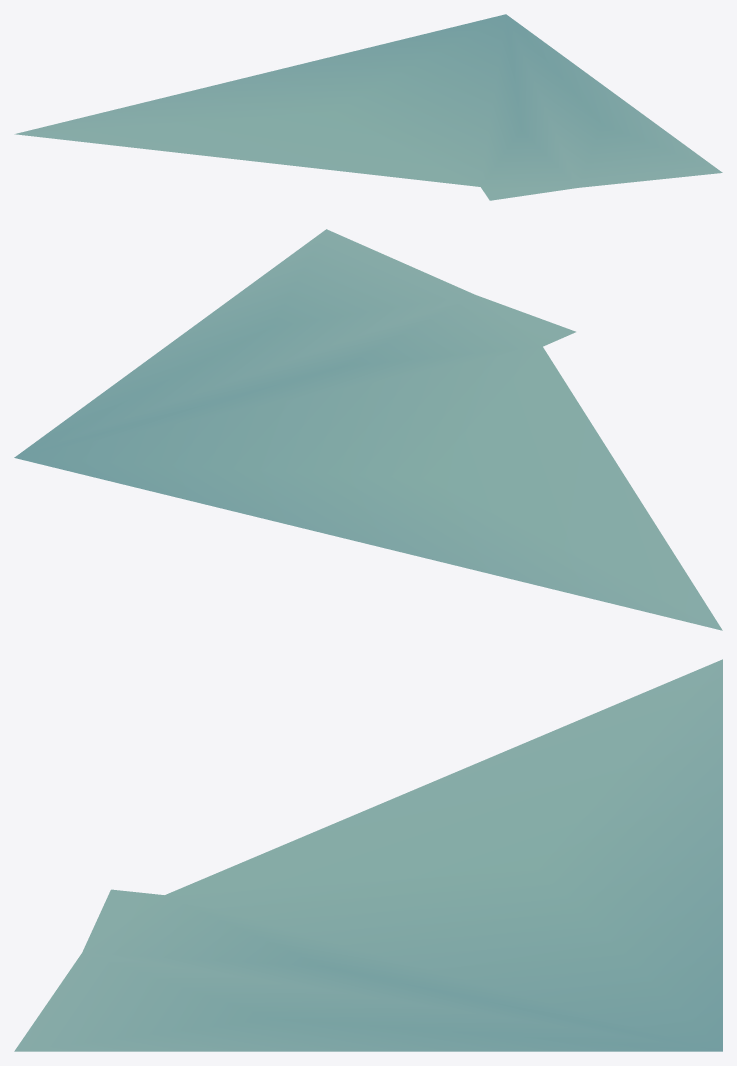
Rendered from water-18-11.glb.
3 renders of one model, top to bottom at view 1: azimuth 30°, elevation 25°; view 2: azimuth 150°, elevation 25°; view 3: azimuth 270°, elevation 25°, orthographic. The views are drawn at different scales.
Size of the model in its own units: 9 by 0 by 6.87.
